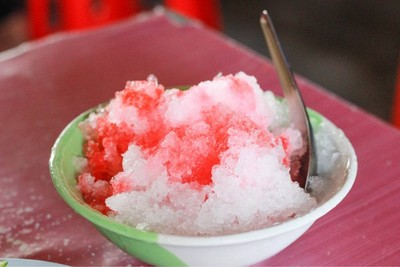O-eo: (55, 57, 358, 266)
